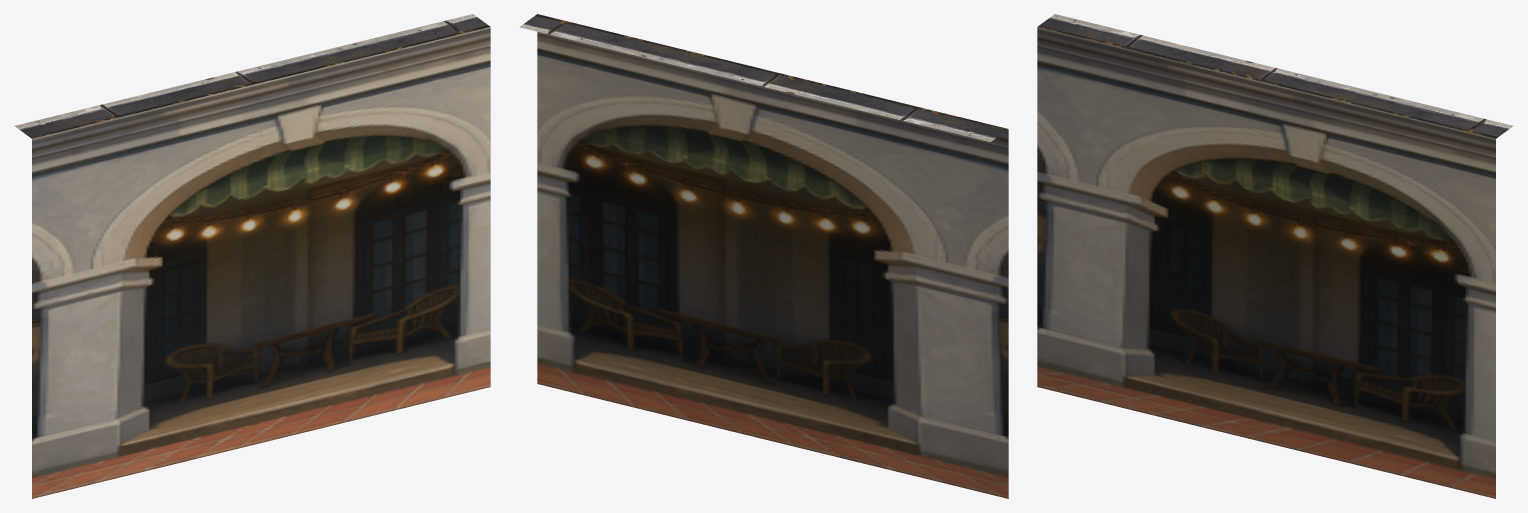
File: IN_HHB_Arcade6.fbx
3 views of the same model, side by side, from view 1: azimuth 30°, elevation 25°; view 2: azimuth 150°, elevation 25°; view 3: azimuth 330°, elevation 25° (orthographic). The views are drawn at different scales.
Visible parts, largest first — view 1: IN_HHB_Arcade6; view 2: IN_HHB_Arcade6; view 3: IN_HHB_Arcade6.
Boxes of the visible parts, x1,y1,x2,y2 form: IN_HHB_Arcade6: [15, 14, 490, 498]; IN_HHB_Arcade6: [519, 14, 1008, 498]; IN_HHB_Arcade6: [1037, 14, 1512, 498].
Bounding box in the file's own units: 6 × 0.4 × 4.5.
Materials: 1 (1 with a texture image).
